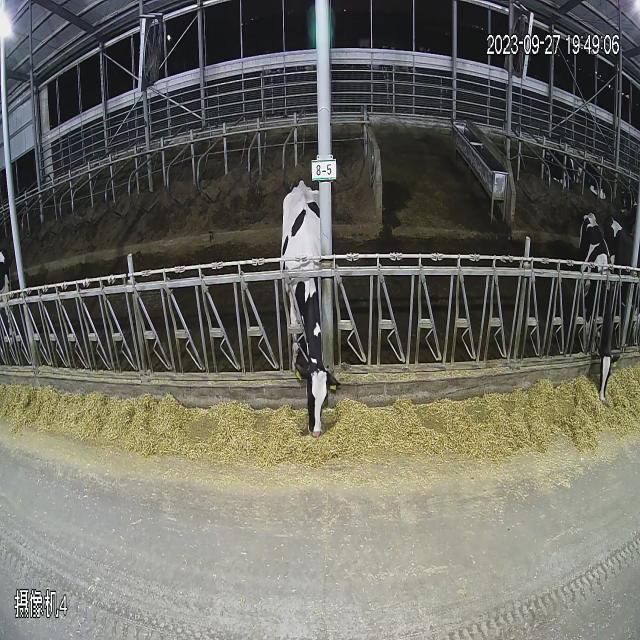feeding: (279, 149, 351, 457), (574, 204, 622, 424)
lying down: (580, 118, 620, 206), (542, 118, 580, 200), (618, 169, 640, 229)
